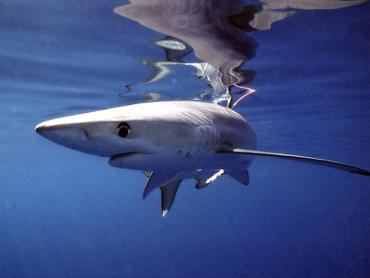Shark -Selachimorpha-: (34, 75, 370, 226)
